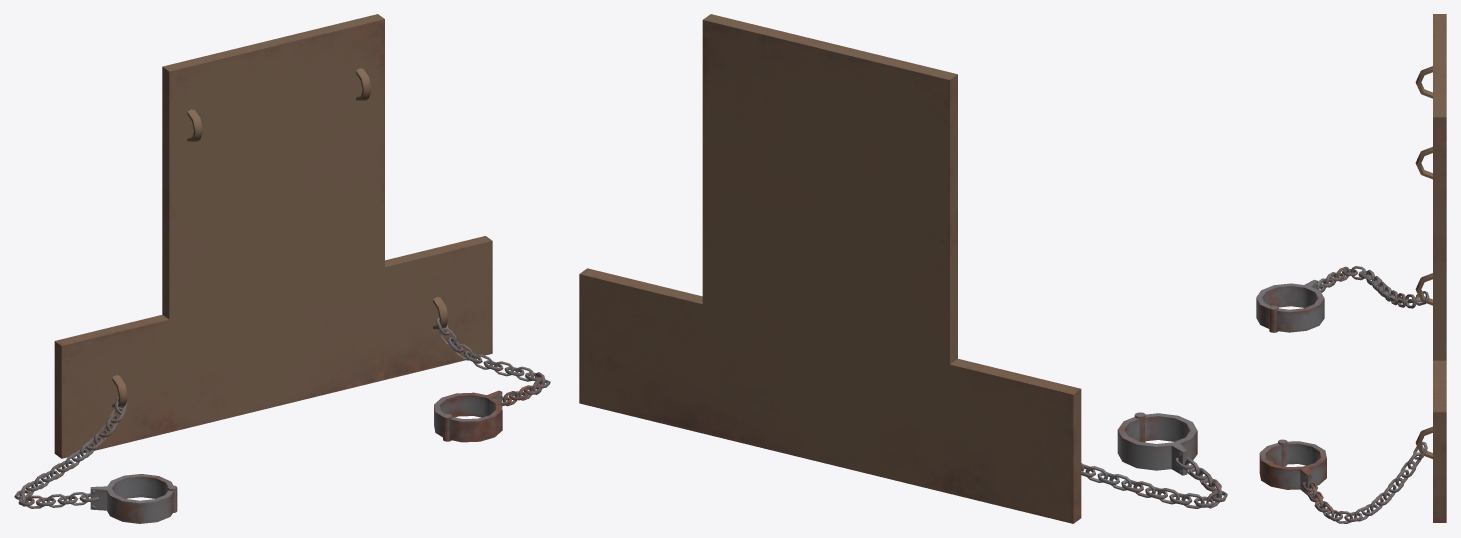
Rendered from sb_obj_indoor035_Prison01_legcuffs01.fbx.
3 renders of one model, left to right at view 1: azimuth 30°, elevation 25°; view 2: azimuth 150°, elevation 25°; view 3: azimuth 270°, elevation 25°, orthographic. The views are drawn at different scales.
Parts seen in each view (by area): view 1: sb_obj_indoor035_Prison01_legcuffs01; view 2: sb_obj_indoor035_Prison01_legcuffs01; view 3: sb_obj_indoor035_Prison01_legcuffs01.
Part boxes in pixels (x1,y1,x2,y2): sb_obj_indoor035_Prison01_legcuffs01: (14, 14, 550, 523); sb_obj_indoor035_Prison01_legcuffs01: (579, 14, 1227, 523); sb_obj_indoor035_Prison01_legcuffs01: (1256, 14, 1446, 523).
Size of the model in its own units: 1.21 by 0.8006 by 0.3904.
